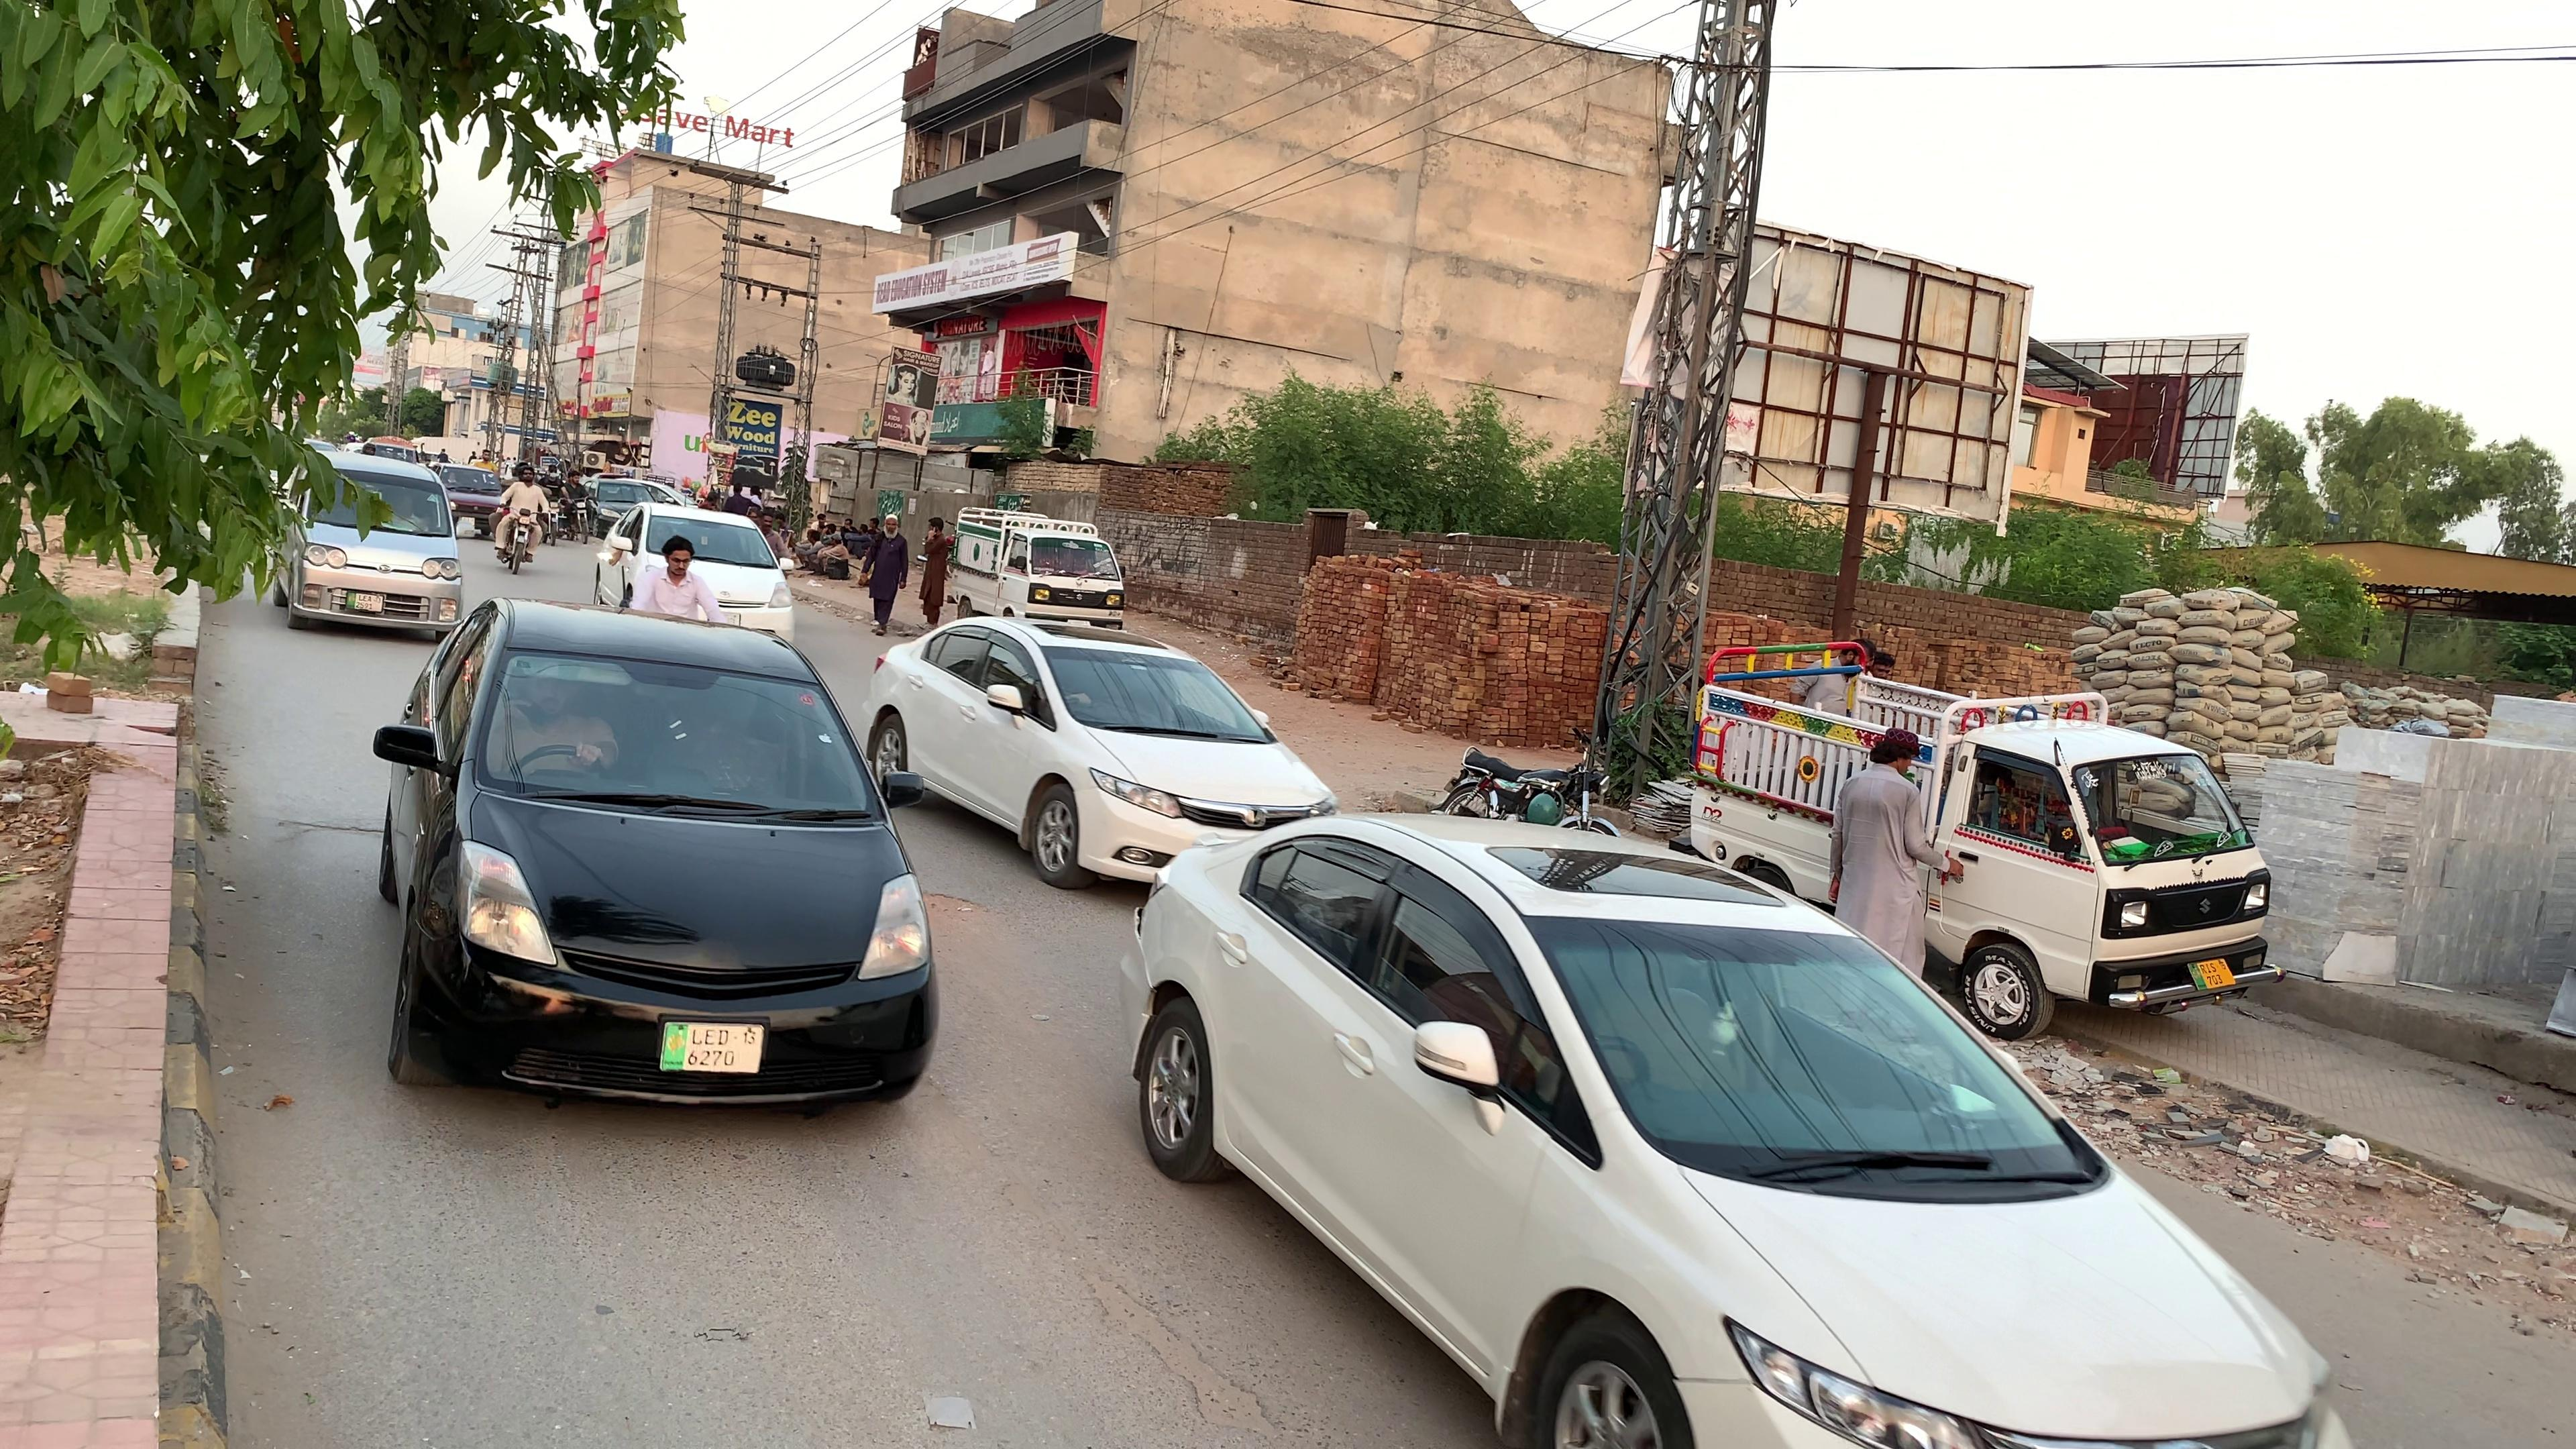windshield: (1518, 913, 2137, 1214), (467, 630, 897, 835)
